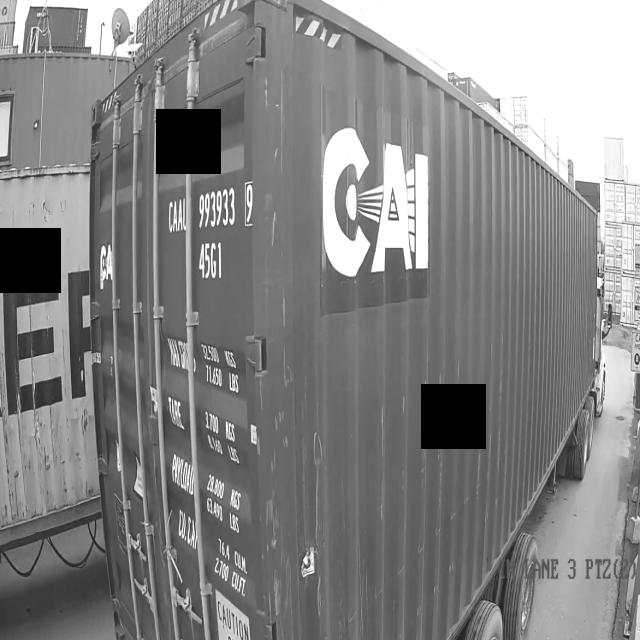container_company_logo: (320, 89, 430, 315)
container_number: (192, 179, 253, 279), (165, 196, 186, 235)
other_container_info: (168, 334, 259, 604)
truck_with_container: (0, 0, 606, 640)
